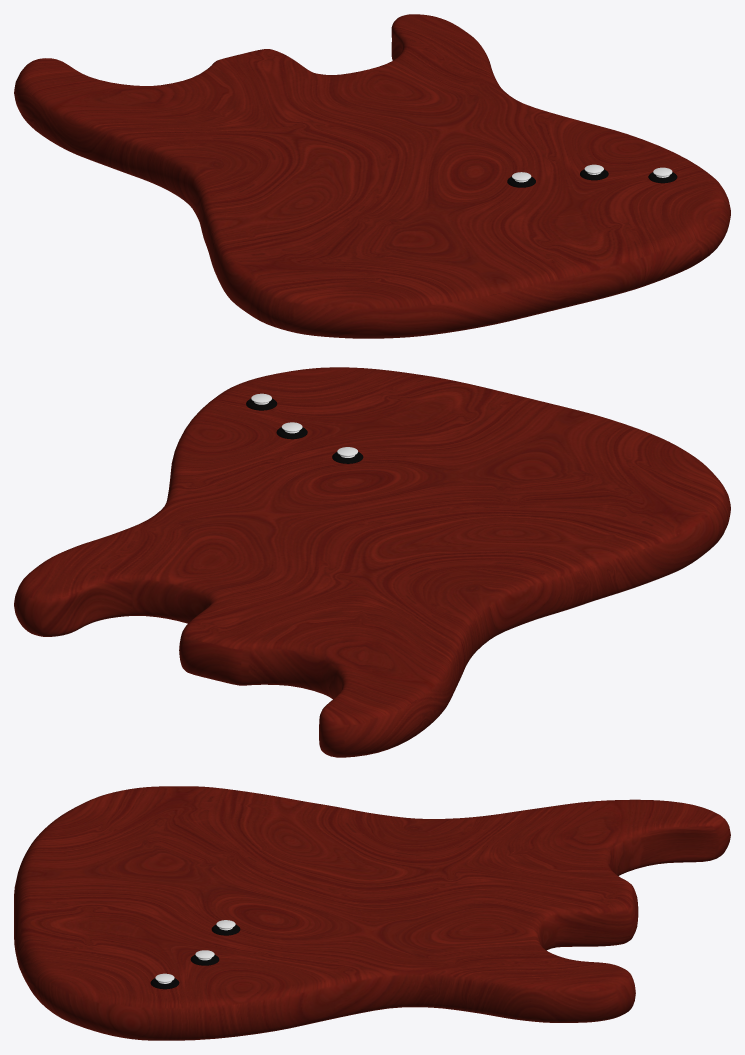
The model's file is Estratocaster_Caoba.glb.
The picture shows the model from 3 angles, top to bottom: view 1: azimuth 30°, elevation 25°; view 2: azimuth 150°, elevation 25°; view 3: azimuth 270°, elevation 25°; orthographic projection. The views are drawn at different scales.
Parts seen in each view (by area): view 1: Estratocaster_Caoba; view 2: Estratocaster_Caoba; view 3: Estratocaster_Caoba.
Boxes of the visible parts, <box> form: Estratocaster_Caoba: <box>14,14,730,338</box>; Estratocaster_Caoba: <box>14,367,730,757</box>; Estratocaster_Caoba: <box>14,786,730,1040</box>.
Bounding box in the file's own units: 2.1 × 0.2002 × 2.81.
3 materials, 1 textured.
